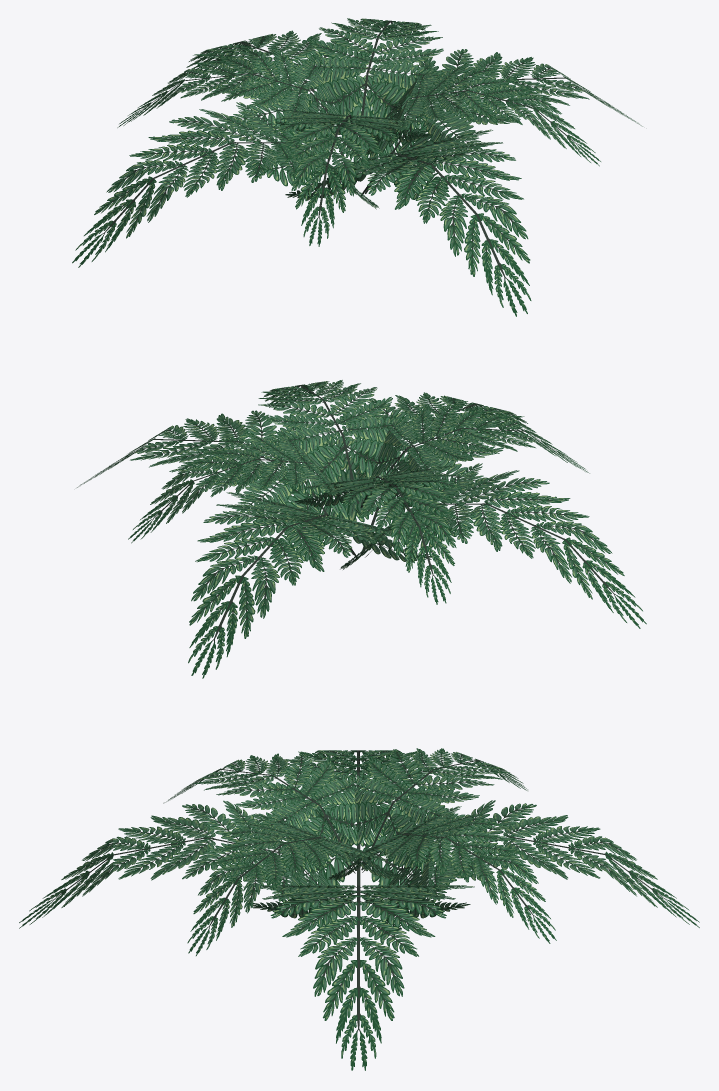
File: Helecho.fbx
3 renders of one model, top to bottom at view 1: azimuth 30°, elevation 25°; view 2: azimuth 150°, elevation 25°; view 3: azimuth 270°, elevation 25°, orthographic. The views are drawn at different scales.
Parts seen in each view (by area): view 1: Plano.003, Plano.001, Plano.006, Plano.007, Plano, Plano.005, Plano.004, Plano.002; view 2: Plano.002, Plano.001, Plano.004, Plano.005, Plano, Plano.007, Plano.006, Plano.003; view 3: Plano, Plano.003, Plano.002, Plano.005, Plano.007, Plano.004, Plano.006, Plano.001.
Boxes of the visible parts, box(x1,y1,x2,y2) form: Plano.003: box(285, 129, 531, 316); Plano.001: box(72, 102, 379, 267); Plano.006: box(285, 18, 449, 136); Plano.007: box(268, 109, 432, 246); Plano: box(342, 49, 642, 199); Plano.005: box(117, 48, 353, 152); Plano.004: box(366, 63, 600, 166); Plano.002: box(186, 30, 428, 191); Plano.002: box(188, 492, 431, 678); Plano.001: box(340, 463, 646, 628); Plano.004: box(258, 380, 422, 503); Plano.005: box(295, 465, 461, 604); Plano: box(77, 410, 375, 561); Plano.007: box(355, 403, 589, 511); Plano.006: box(128, 430, 360, 543); Plano.003: box(290, 392, 527, 554); Plano: box(243, 885, 474, 1070); Plano.003: box(19, 800, 350, 938); Plano.002: box(370, 800, 699, 935); Plano.005: box(315, 748, 527, 870); Plano.007: box(163, 753, 390, 872); Plano.004: box(187, 813, 401, 955); Plano.006: box(328, 806, 556, 943); Plano.001: box(243, 750, 472, 921).
Size of the model in its own units: 174 by 175 by 34.1.
